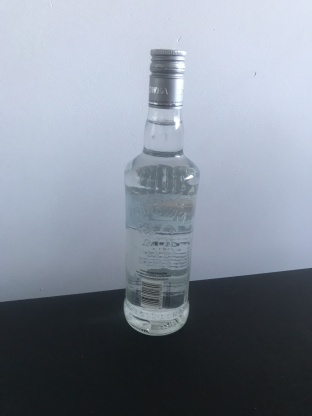nakretka: (147, 45, 187, 112)
